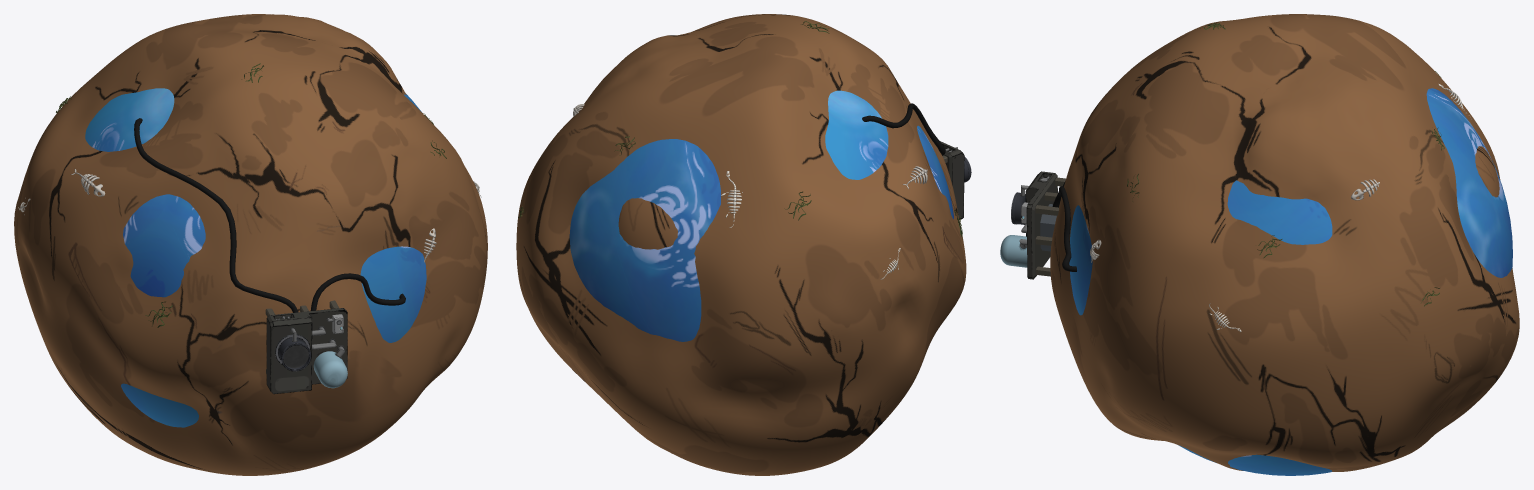
Rendered from planet_ocean_iteration_3.gltf.
3 views of the same model, side by side, from view 1: azimuth 30°, elevation 25°; view 2: azimuth 150°, elevation 25°; view 3: azimuth 270°, elevation 25° (orthographic). The views are drawn at different scales.
Visible parts, largest first — view 1: planet_ocean_iteration_3; view 2: planet_ocean_iteration_3; view 3: planet_ocean_iteration_3.
Boxes of the visible parts, bbox=[...] form: planet_ocean_iteration_3: bbox=[14, 14, 487, 475]; planet_ocean_iteration_3: bbox=[516, 14, 971, 475]; planet_ocean_iteration_3: bbox=[1000, 14, 1519, 475].
Bounding box in the file's own units: 12.84 × 12.42 × 13.77.
Materials: 8 (8 with a texture image).
